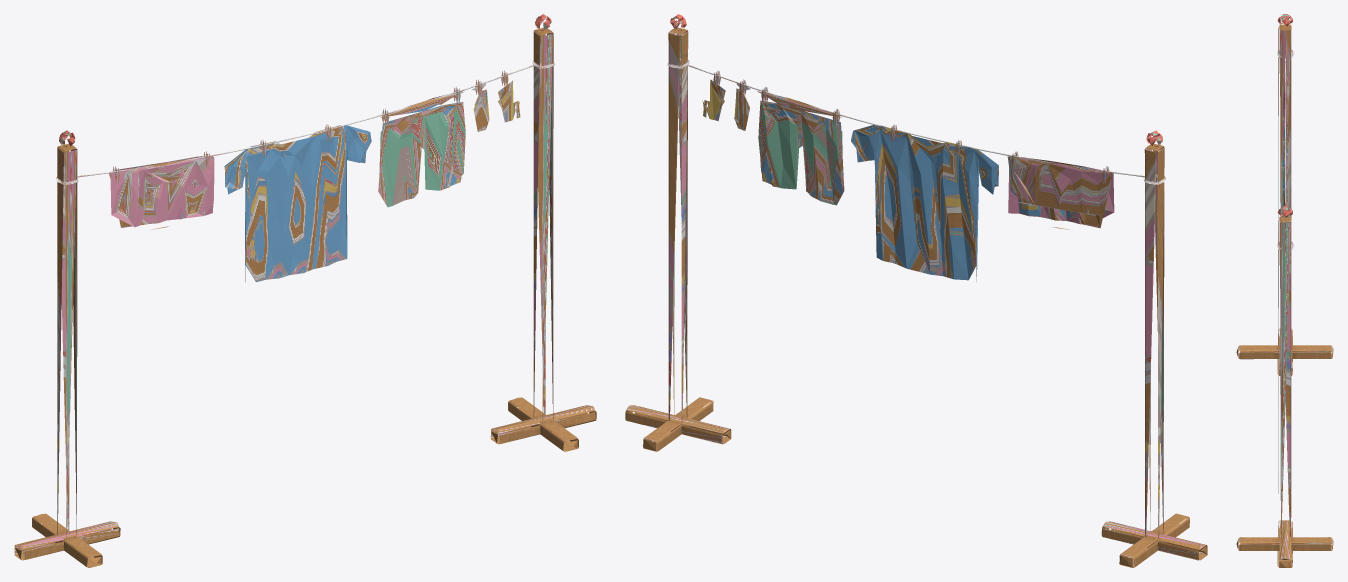
Rendered from jemuran.glb.
The picture shows the model from 3 angles, left to right: view 1: azimuth 30°, elevation 25°; view 2: azimuth 150°, elevation 25°; view 3: azimuth 270°, elevation 25°; orthographic projection. The views are drawn at different scales.
Parts seen in each view (by area): view 1: jemuran_0; view 2: jemuran_0; view 3: jemuran_0.
Boxes of the visible parts, box(x1,y1,x2,y2) form: jemuran_0: box(14, 14, 596, 567); jemuran_0: box(625, 14, 1207, 567); jemuran_0: box(1236, 14, 1333, 567).
Bounding box in the file's own units: 2.67 × 1.83 × 0.4703.
Materials: 1 (1 with a texture image).
